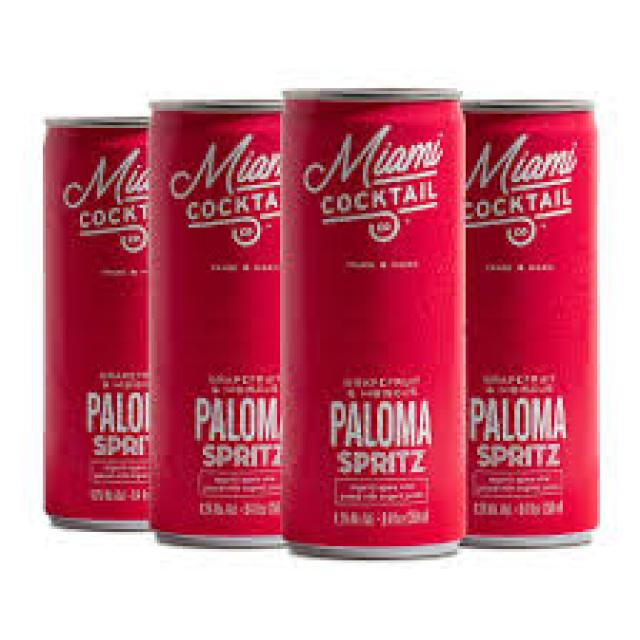Cans: (272, 77, 477, 572), (143, 91, 288, 558), (466, 91, 611, 546), (32, 108, 157, 535)
